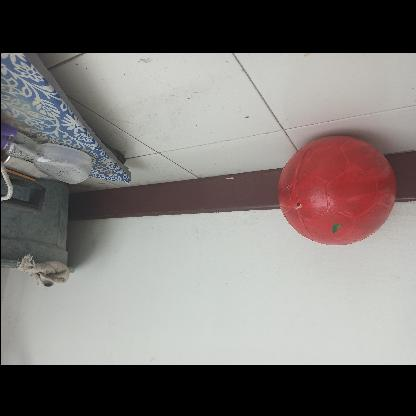red_ball: (278, 132, 396, 250)
